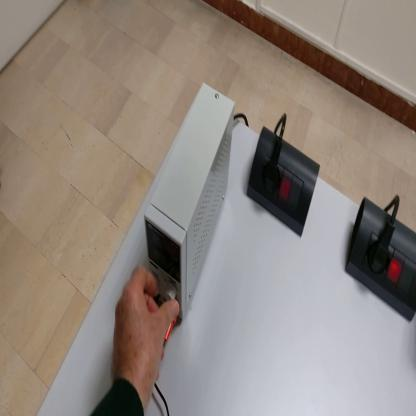hand: (112, 268, 179, 399)
power supply: (146, 86, 237, 324)
socket: (344, 193, 416, 323), (244, 124, 321, 238)
